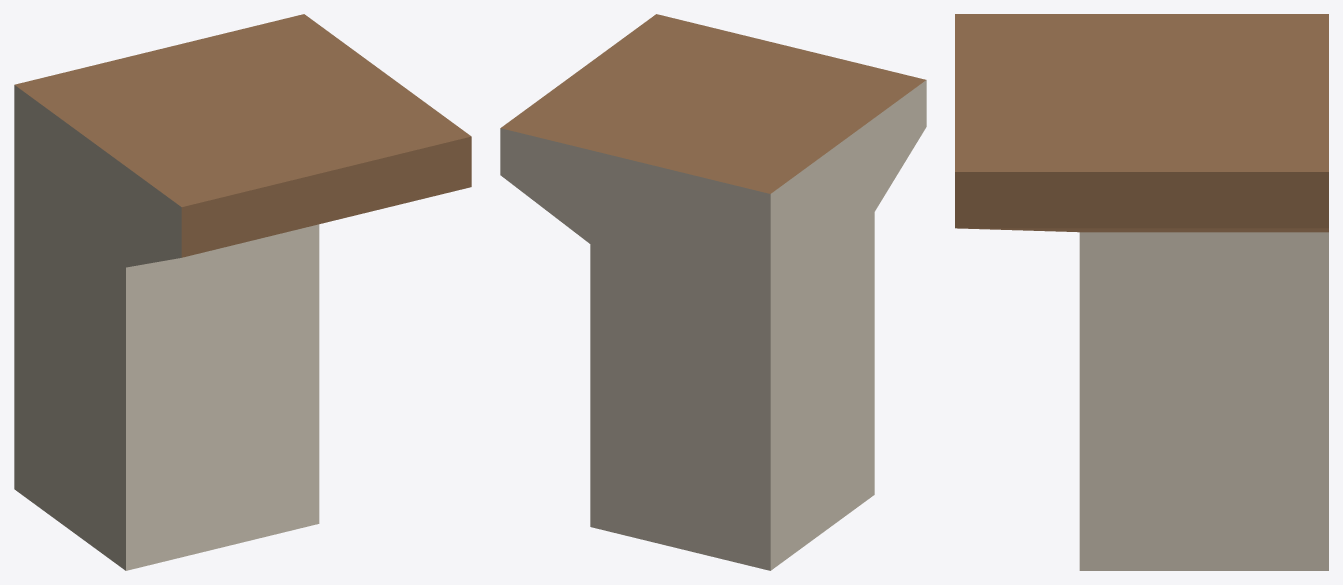
The model's file is Stairs_Indoor_Balcony_Floor_Corner.obj.
3 views of the same model, side by side, from view 1: azimuth 30°, elevation 25°; view 2: azimuth 150°, elevation 25°; view 3: azimuth 270°, elevation 25° (orthographic). The views are drawn at different scales.
Parts seen in each view (by area): view 1: object1; view 2: object1; view 3: object1.
Boxes of the visible parts, bbox=[...] form: object1: bbox=[14, 14, 471, 570]; object1: bbox=[500, 14, 926, 570]; object1: bbox=[955, 14, 1328, 570].
Size of the model in its own units: 0.15 by 0.2 by 0.15.
